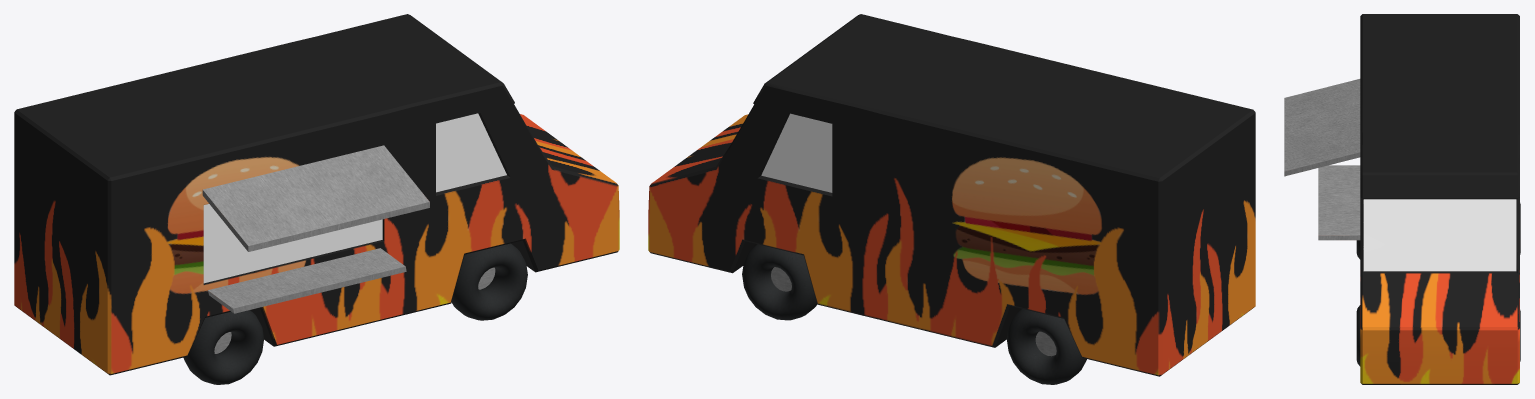
The model's file is foodtruck2.fbx.
3 renders of one model, left to right at view 1: azimuth 30°, elevation 25°; view 2: azimuth 150°, elevation 25°; view 3: azimuth 270°, elevation 25°, orthographic. The views are drawn at different scales.
Parts seen in each view (by area): view 1: polySurface549; view 2: polySurface549; view 3: polySurface549.
Boxes of the visible parts, x1,y1,x2,y2 form: polySurface549: (14,14,619,384); polySurface549: (648,14,1255,384); polySurface549: (1284,14,1520,384).
Bounding box in the file's own units: 9.19 × 4.09 × 4.42.
2 materials, 1 textured.
